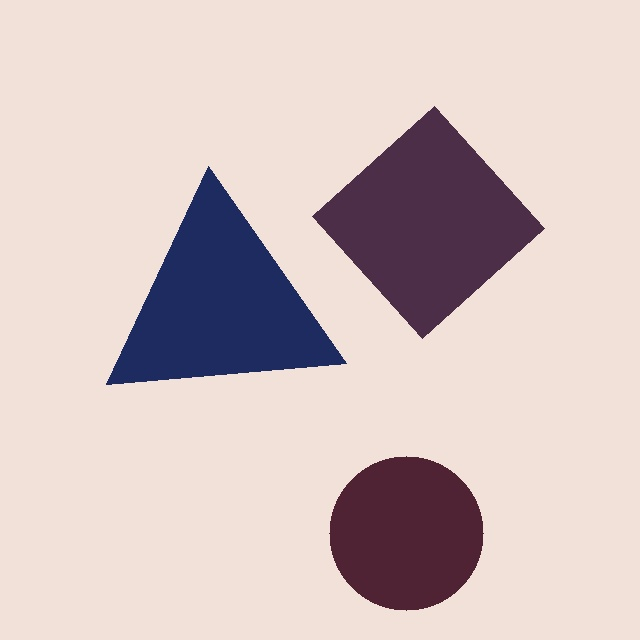circle: (328, 455, 484, 610)
square: (311, 105, 545, 339)
triangle: (105, 166, 347, 385)
